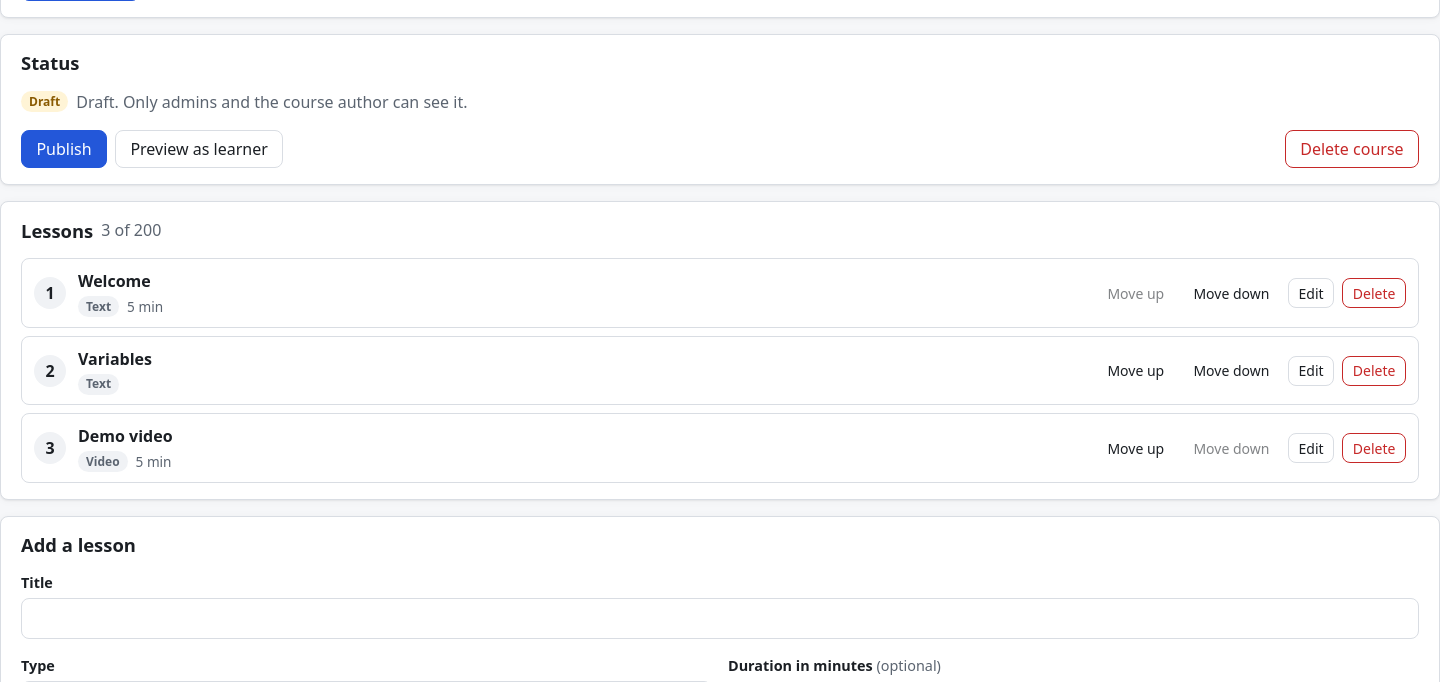
Test: EditCoursePage › deletes a lesson after confirmation
(page scrolled)
What coordinates should you click on to do the following:
click the button named "Delete: Variables"
I would click on:
 (1374, 371)
Its box is x1=1342 y1=356 x2=1406 y2=386.
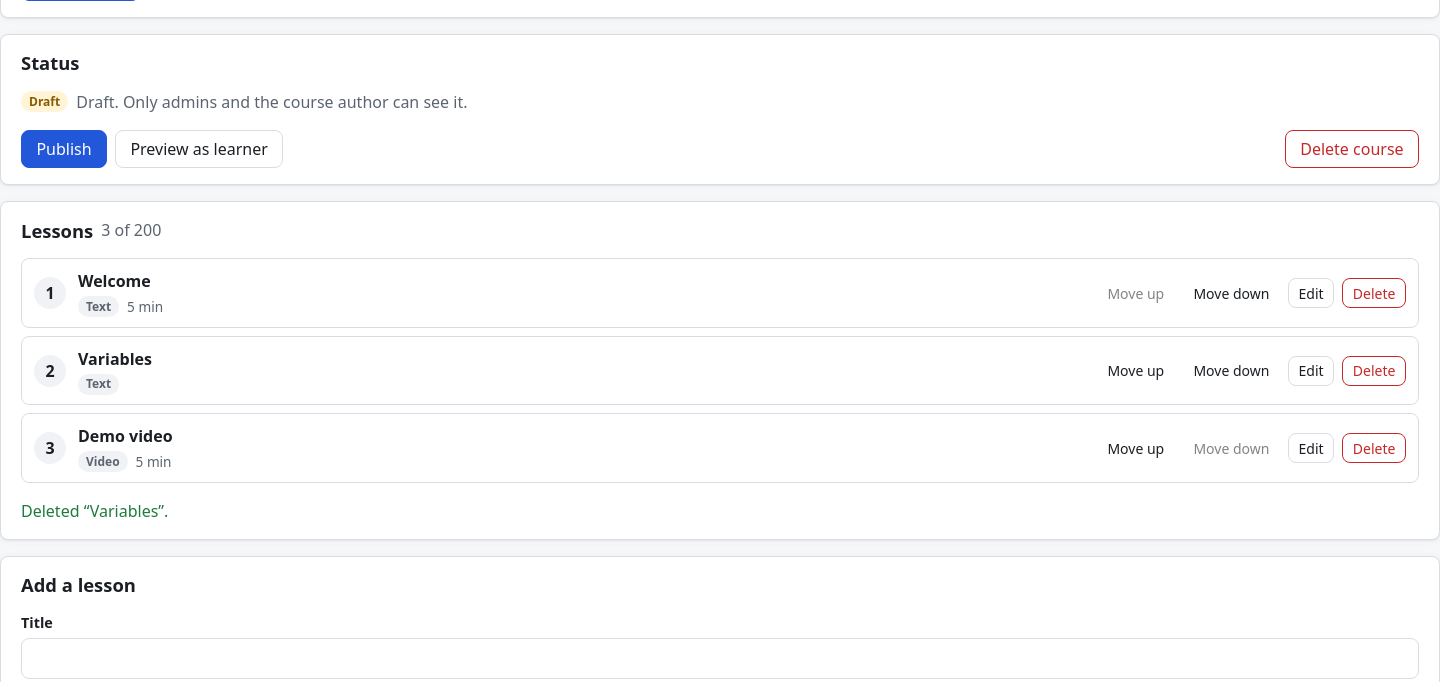
expect the text "Deleted “Variables”." is shown: met, box x1=21 y1=500 x2=168 y2=522
